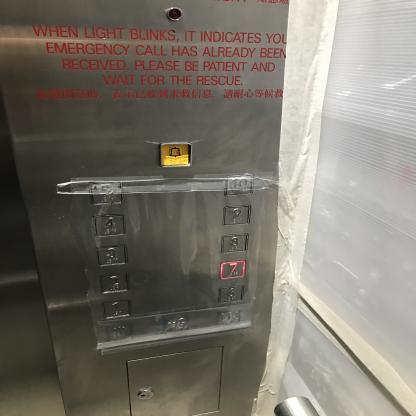1: (101, 298, 132, 319)
10: (223, 173, 255, 197)
2: (98, 272, 130, 294)
3: (95, 244, 128, 266)
4: (92, 214, 126, 237)
5: (87, 180, 125, 206)
6: (218, 284, 245, 304)
7: (218, 259, 247, 280)
8: (220, 233, 249, 254)
9: (222, 204, 251, 226)
alarm: (158, 141, 192, 168)
keyhole: (136, 386, 155, 401)
